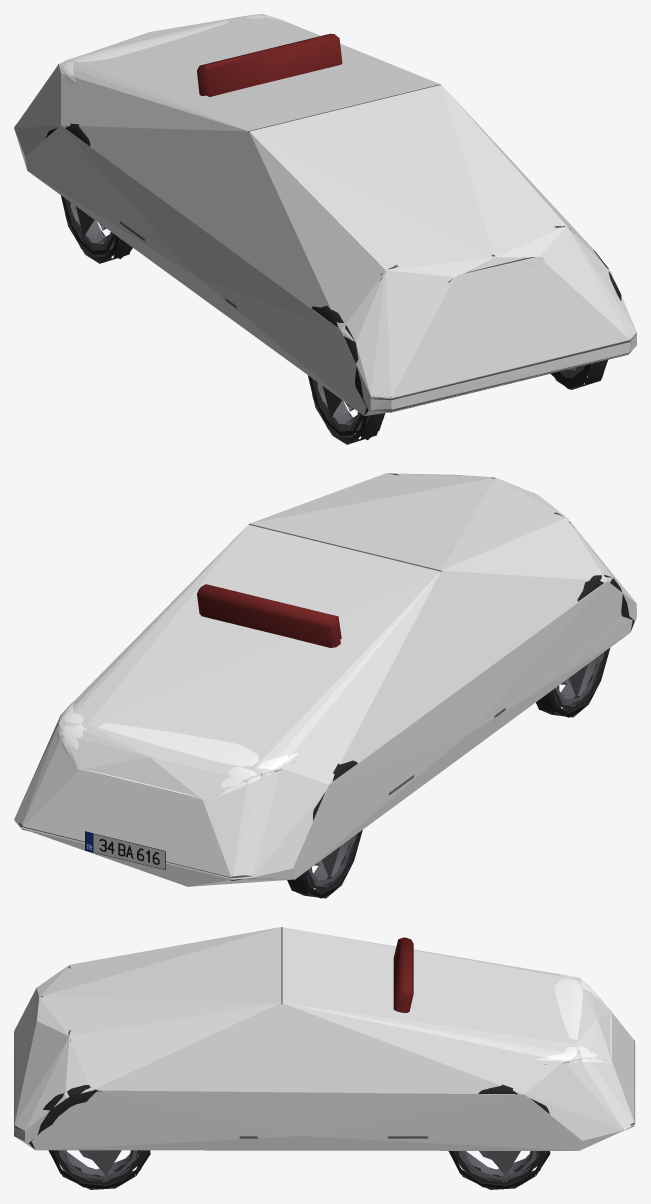
File: bosfor_lale_lod1.glb
The picture shows the model from 3 angles, top to bottom: view 1: azimuth 30°, elevation 25°; view 2: azimuth 150°, elevation 25°; view 3: azimuth 270°, elevation 25°; orthographic projection. The views are drawn at different scales.
Visible parts, largest first — view 1: col_body, interior, trim, wheel_FR, wheel_RR, body, wheel_FL; view 2: col_body, interior, body, wheel_FR, wheel_RR, trim, plate_rear; view 3: col_body, wheel_FL, wheel_RL, body, trim, interior, brake_FL, brake_RL.
Part boxes in pixels (<box>): col_body: <box>14,14,636,415</box>; interior: <box>197,33,342,96</box>; trim: <box>14,64,636,415</box>; wheel_FR: <box>308,375,385,444</box>; wheel_RR: <box>61,195,132,263</box>; body: <box>57,14,287,83</box>; wheel_FL: <box>550,360,607,389</box>; col_body: <box>14,473,636,886</box>; interior: <box>197,584,341,647</box>; body: <box>57,702,299,801</box>; wheel_FR: <box>536,648,610,717</box>; wheel_RR: <box>287,830,362,898</box>; trim: <box>19,473,634,886</box>; plate_rear: <box>85,831,165,870</box>; col_body: <box>14,927,635,1150</box>; wheel_FL: <box>48,1150,150,1189</box>; wheel_RL: <box>448,1151,550,1189</box>; body: <box>536,972,611,1063</box>; trim: <box>14,927,634,1149</box>; interior: <box>393,937,413,1012</box>; brake_FL: <box>84,1150,121,1175</box>; brake_RL: <box>484,1151,520,1175</box>.
Size of the model in its own units: 1.73 by 1.37 by 4.29.
Materials: 10 (1 with a texture image).
